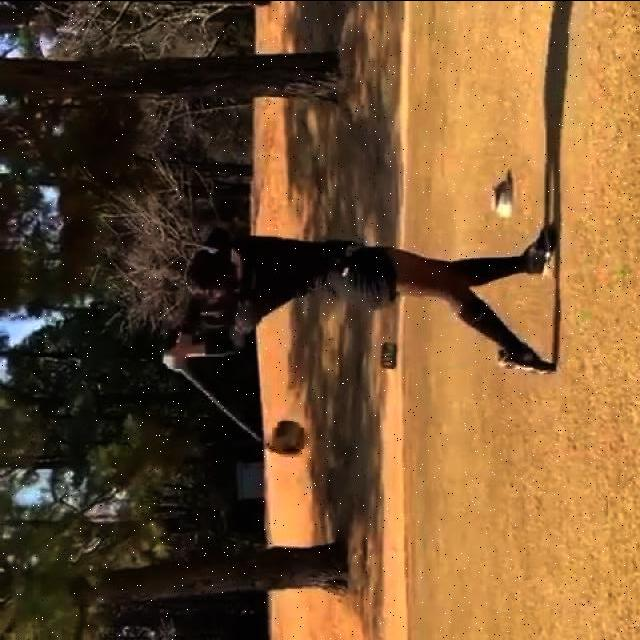ClubHandle: (168, 358, 305, 457)
ClubHead: (275, 419, 305, 455)
